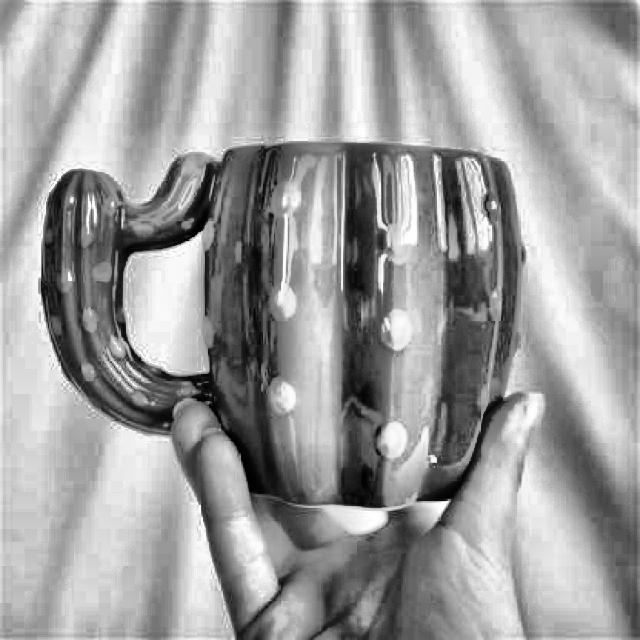Mug: (41, 140, 528, 511)
